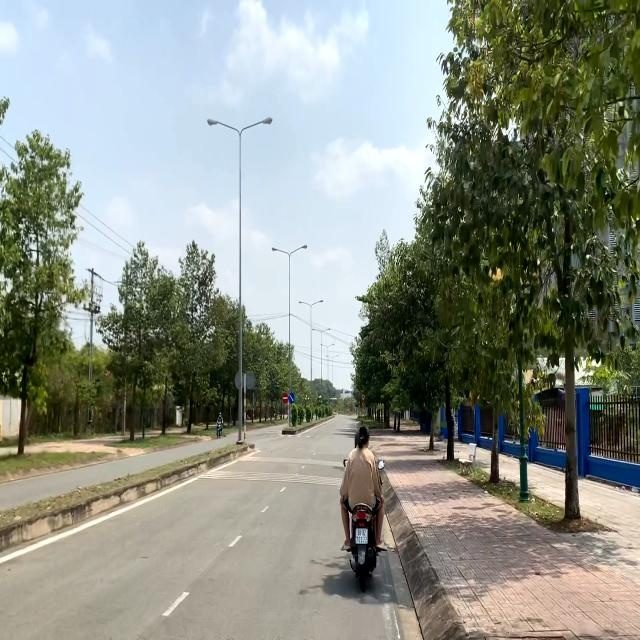bien_nguy_hiem: (288, 392, 294, 404), (282, 392, 288, 403)
